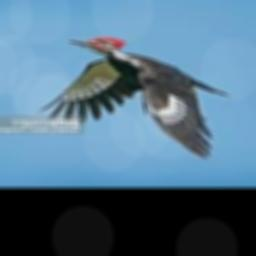Woodpecker: (37, 36, 230, 159)
